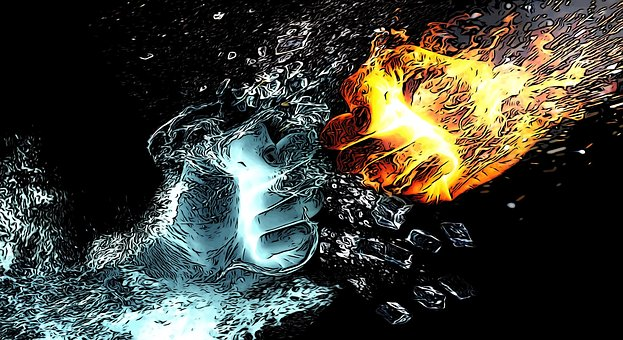fist: (343, 49, 528, 215), (186, 122, 326, 280)
